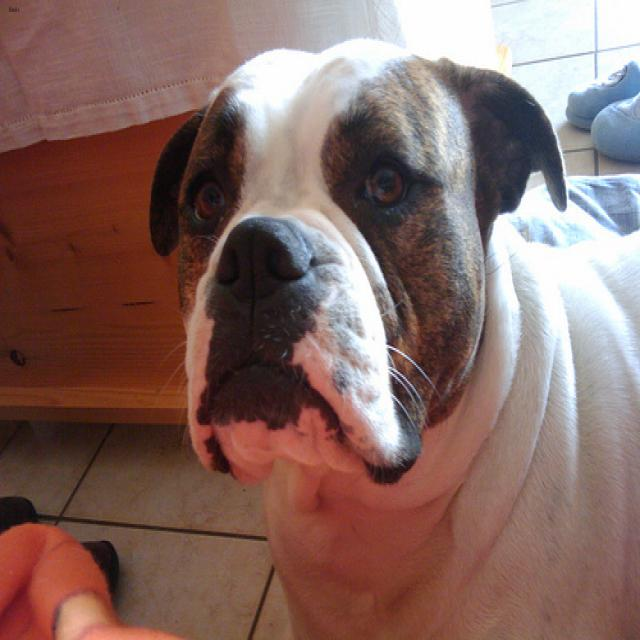dog-american_bulldog: (141, 31, 637, 637)
